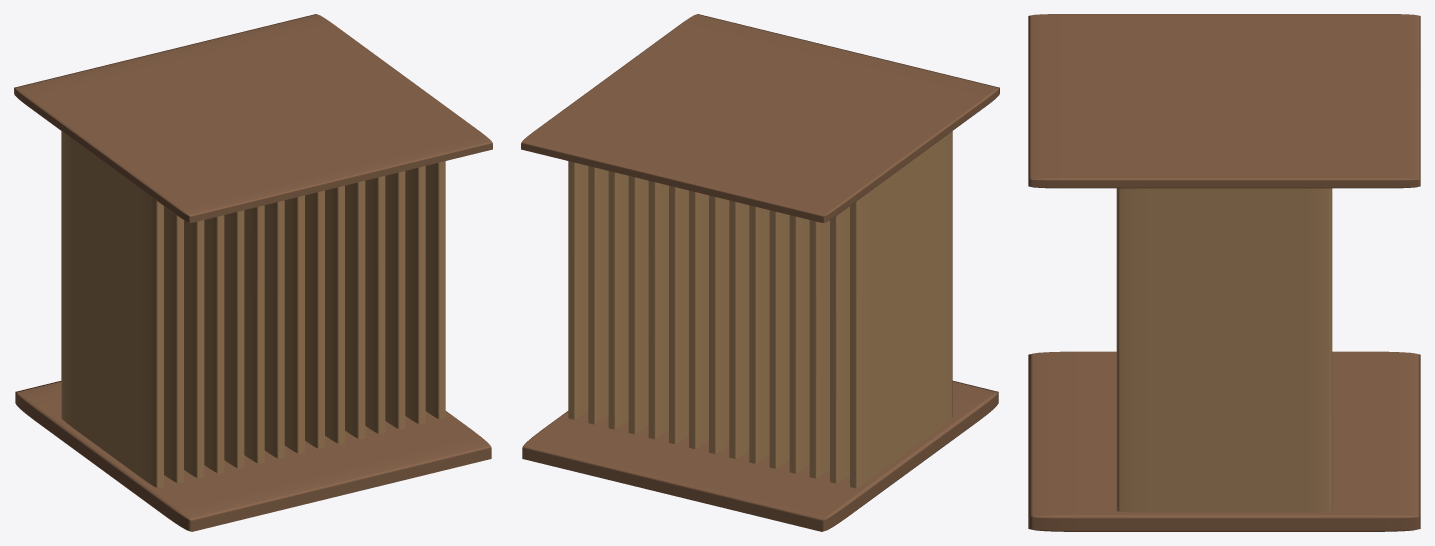
File: studio-divider-oak.glb
The picture shows the model from 3 angles, left to right: view 1: azimuth 30°, elevation 25°; view 2: azimuth 150°, elevation 25°; view 3: azimuth 270°, elevation 25°; orthographic projection. The views are drawn at different scales.
Parts seen in each view (by area): view 1: divider-slat, upholstery; view 2: divider-slat, upholstery; view 3: upholstery, divider-slat.
Boxes of the visible parts, bbox=[...] form: divider-slat: bbox=[61, 131, 445, 488]; upholstery: bbox=[14, 14, 492, 531]; divider-slat: bbox=[568, 131, 952, 488]; upholstery: bbox=[521, 14, 999, 531]; upholstery: bbox=[1028, 14, 1420, 531]; divider-slat: bbox=[1116, 188, 1332, 512].
Size of the model in its own units: 1 by 1 by 1.
